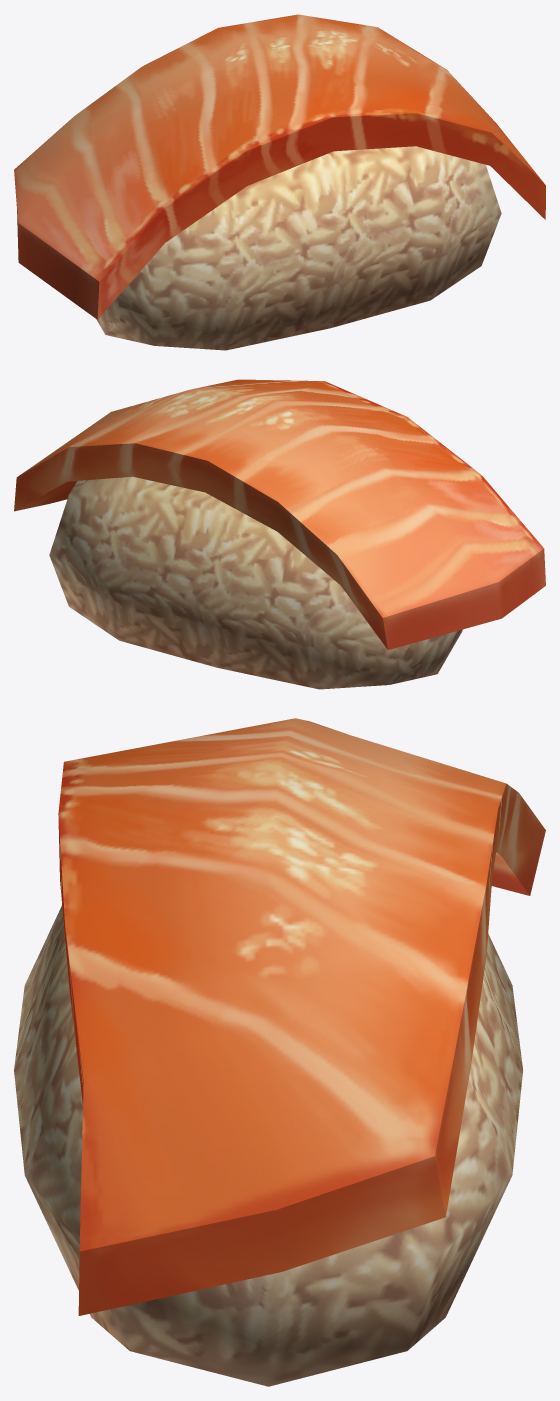
The model's file is SushisSalmon.fbx.
3 views of the same model, one above another, from view 1: azimuth 30°, elevation 25°; view 2: azimuth 150°, elevation 25°; view 3: azimuth 270°, elevation 25° (orthographic). The views are drawn at different scales.
Parts seen in each view (by area): view 1: SushisSalmon.001, SushisSalmon; view 2: SushisSalmon.001, SushisSalmon; view 3: SushisSalmon.001, SushisSalmon.
Boxes of the visible parts, x1=… form: SushisSalmon.001: x1=14, y1=14, x2=545, y2=319; SushisSalmon: x1=96, y1=146, x2=501, y2=350; SushisSalmon.001: x1=14, y1=379, x2=545, y2=649; SushisSalmon: x1=49, y1=476, x2=462, y2=689; SushisSalmon.001: x1=58, y1=718, x2=545, y2=1315; SushisSalmon: x1=14, y1=905, x2=523, y2=1386.
Size of the model in its own units: 32.34 by 18 by 16.87.
